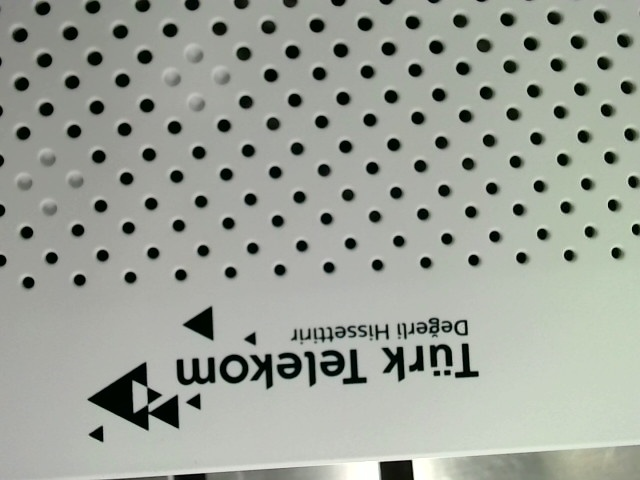AQ_TURKTelekom: (79, 303, 481, 450)
